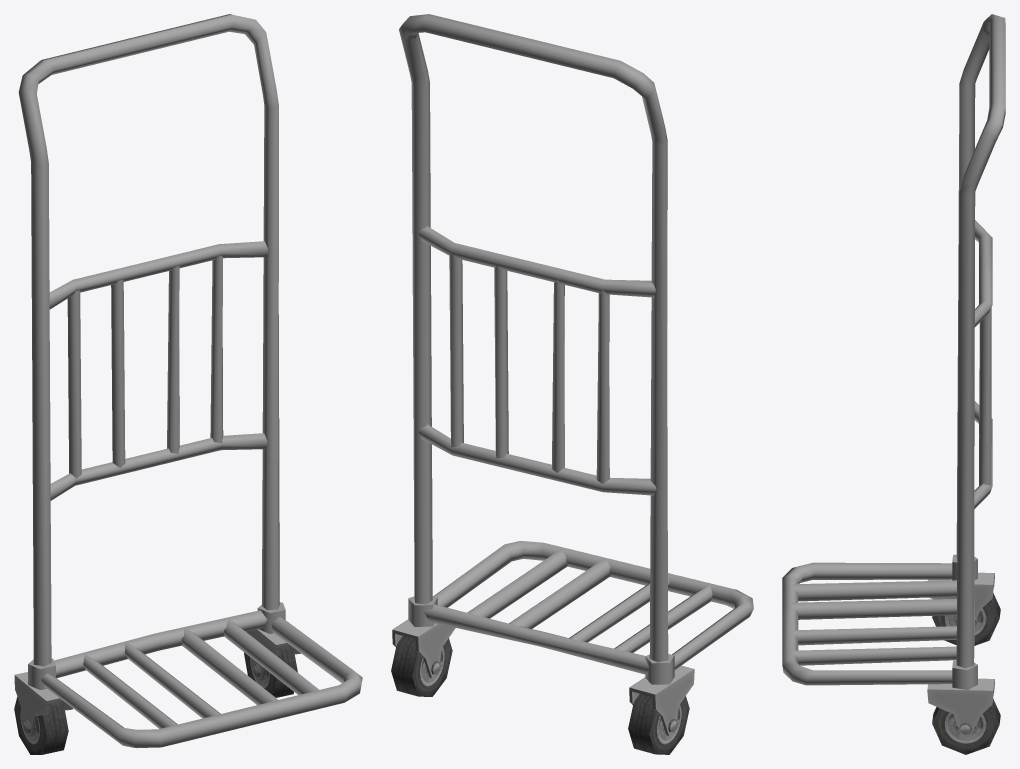
File: Trolleys01.fbx
3 views of the same model, side by side, from view 1: azimuth 30°, elevation 25°; view 2: azimuth 150°, elevation 25°; view 3: azimuth 270°, elevation 25° (orthographic). The views are drawn at different scales.
Visible parts, largest first — view 1: Trolleys01, Trolleys01_W2; view 2: Trolleys01, Trolleys01_W2; view 3: Trolleys01, Trolleys01_W2.
Boxes of the visible parts, x1=… form: Trolleys01: x1=18, y1=14, x2=362, y2=748; Trolleys01_W2: x1=14, y1=602, x2=300, y2=754; Trolleys01: x1=399, y1=14, x2=753, y2=674; Trolleys01_W2: x1=391, y1=596, x2=694, y2=754; Trolleys01: x1=782, y1=14, x2=1005, y2=685; Trolleys01_W2: x1=927, y1=554, x2=1000, y2=754.
Size of the model in its own units: 0.1681 by 0.4175 by 0.1325.
